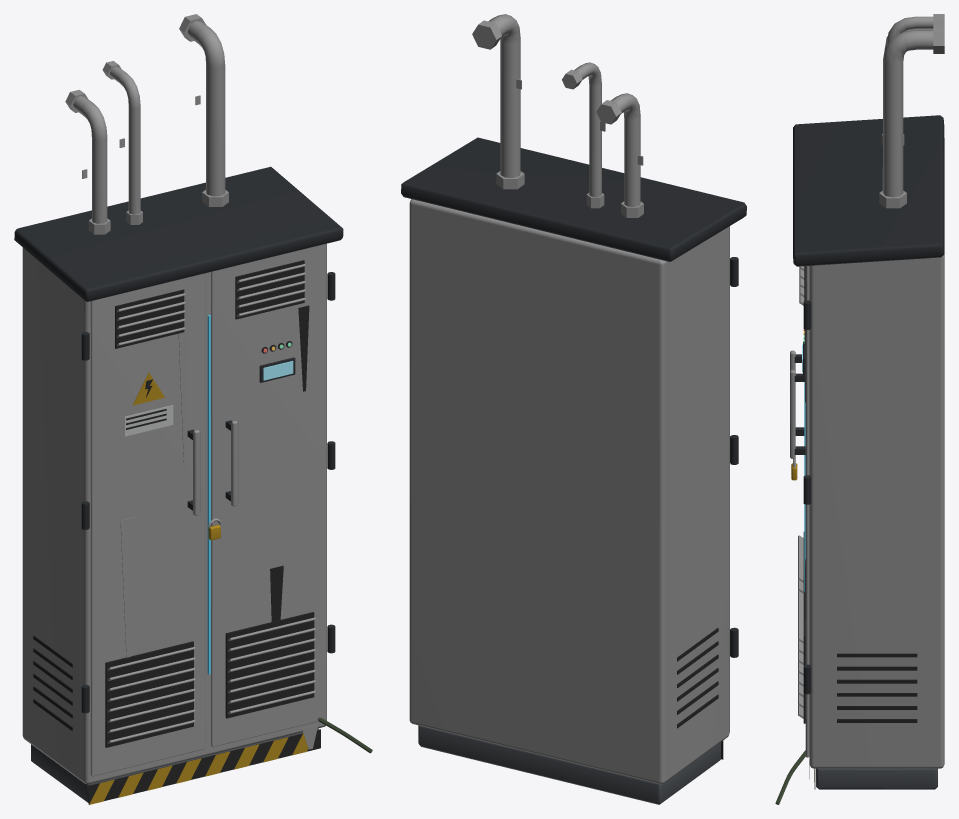
Rendered from Electrical_Cabinet_Tall.fbx.
The picture shows the model from 3 angles, left to right: view 1: azimuth 30°, elevation 25°; view 2: azimuth 150°, elevation 25°; view 3: azimuth 270°, elevation 25°; orthographic projection. The views are drawn at different scales.
Visible parts, largest first — view 1: Electrical_Cabinet_Tall_LOD0; view 2: Electrical_Cabinet_Tall_LOD0; view 3: Electrical_Cabinet_Tall_LOD0.
Part boxes in pixels (box(x1,y1,x2,y2)): Electrical_Cabinet_Tall_LOD0: box(14, 14, 372, 804); Electrical_Cabinet_Tall_LOD0: box(401, 14, 746, 804); Electrical_Cabinet_Tall_LOD0: box(775, 14, 944, 804).
Size of what is drawn, in the model's own units: 1.03 by 2.5 by 0.526.
